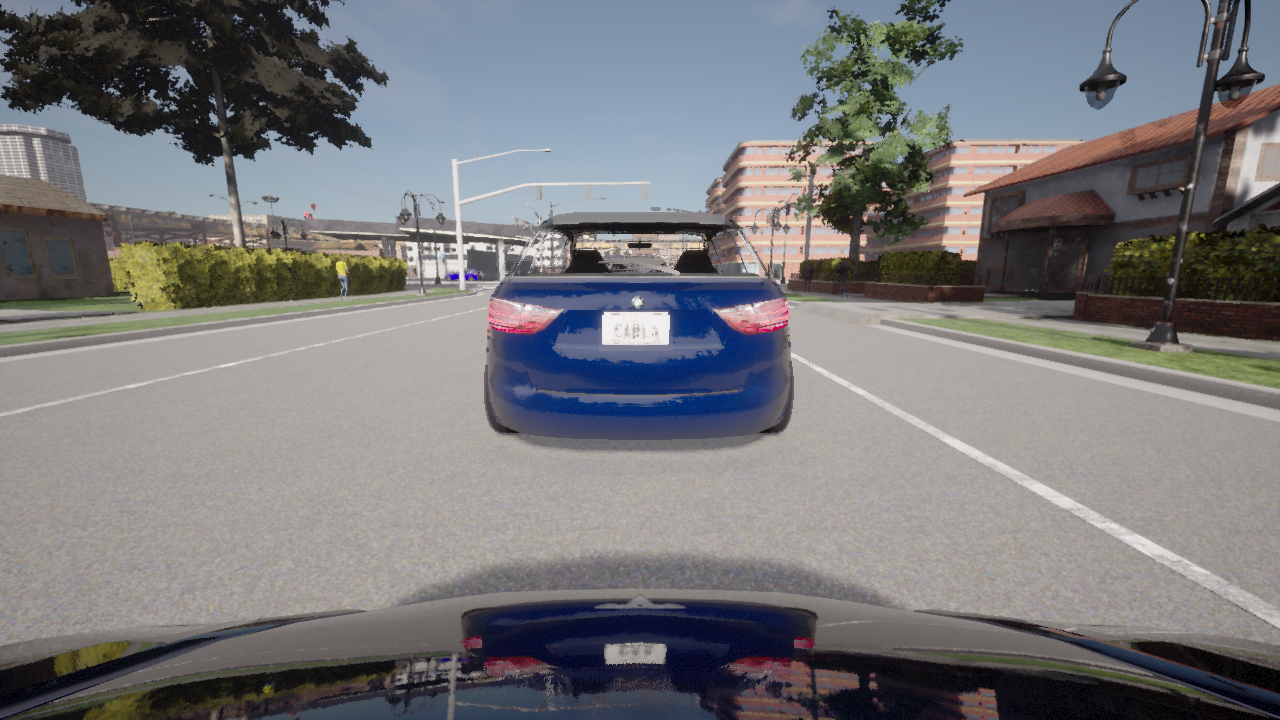cyclist: (0, 588, 1279, 719), (485, 212, 792, 438), (444, 269, 481, 280), (479, 271, 486, 280)
pedestrian: (335, 254, 352, 299), (834, 256, 852, 297), (803, 259, 814, 293)
